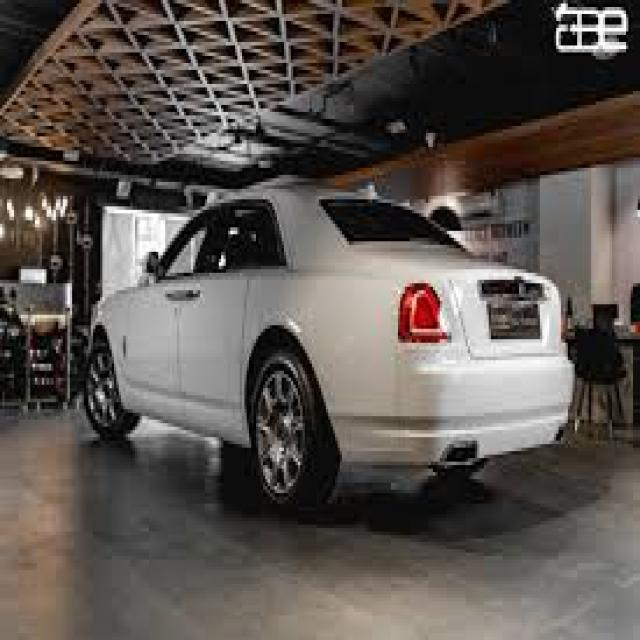car: (78, 188, 586, 525)
